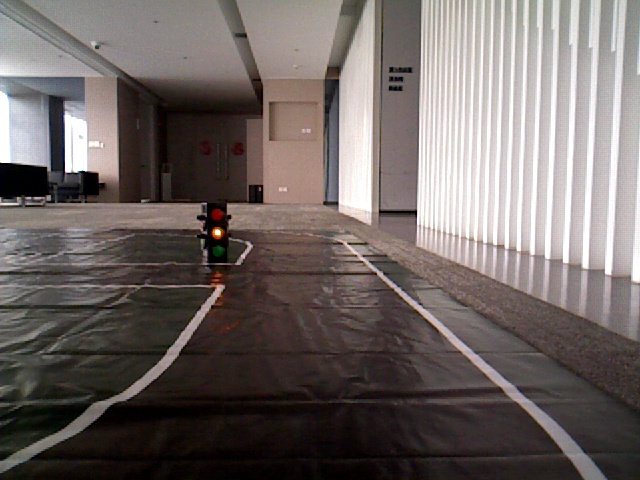yellow: (206, 202, 225, 255)
